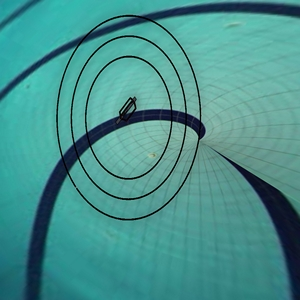circle: (38, 6, 220, 241)
submarine: (105, 86, 149, 132)
